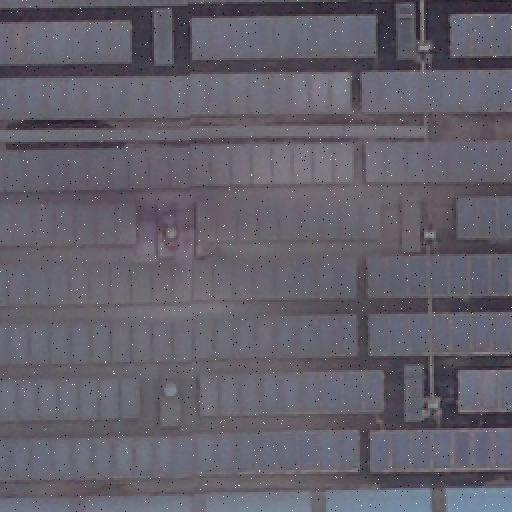solar-panel: (0, 429, 360, 483), (1, 312, 359, 364), (0, 143, 352, 193), (1, 71, 351, 121), (1, 258, 359, 306), (196, 369, 384, 415), (190, 13, 378, 59), (196, 199, 380, 241), (366, 423, 510, 473), (358, 69, 510, 115), (363, 253, 509, 299), (366, 309, 510, 355), (362, 140, 510, 184), (0, 201, 136, 247), (1, 21, 135, 67), (0, 376, 140, 420), (449, 13, 511, 59), (1, 0, 351, 8), (458, 365, 510, 411), (454, 198, 510, 238)
